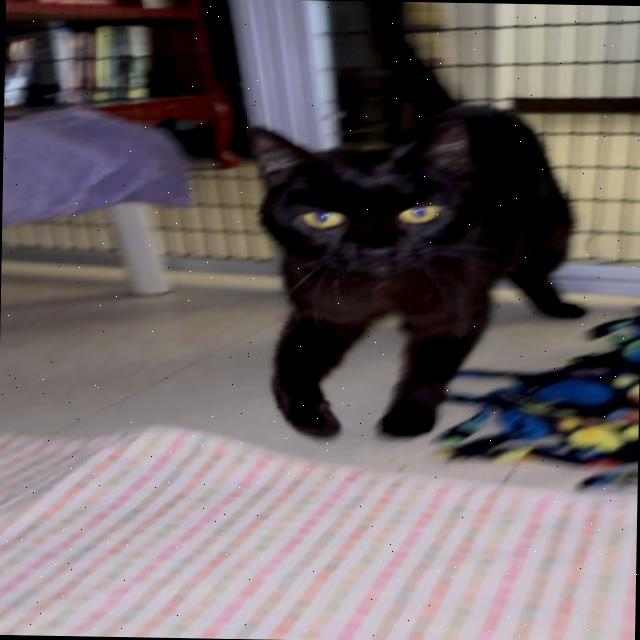bombay_cat: (227, 102, 500, 303)
